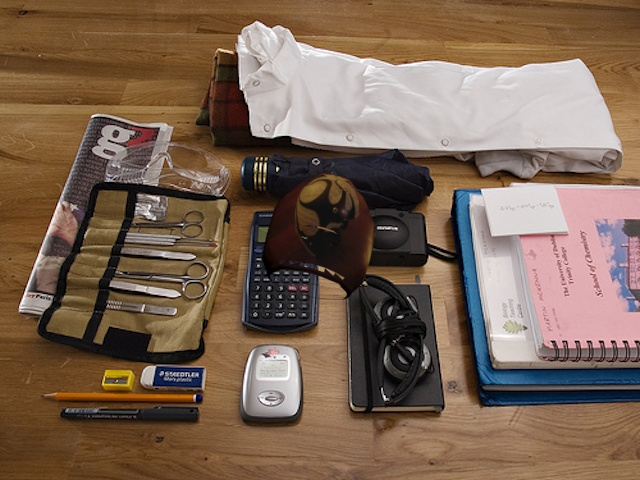bike_helmet: (257, 163, 385, 304)
